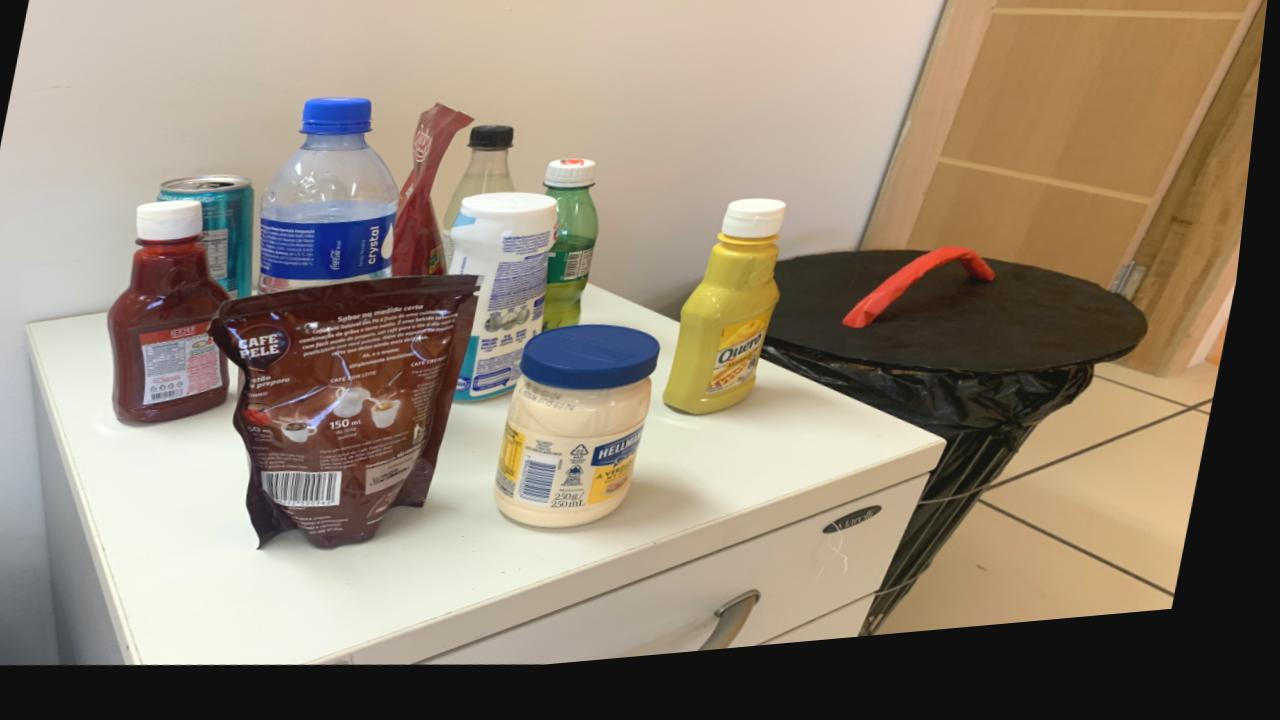Cleaner-Cleanup_Items: (456, 202, 564, 411)
Coffee-Pantry_Items: (216, 284, 486, 556)
Guarana-Drinks: (548, 169, 605, 343)
Ketchup-Pantry_Items: (114, 204, 238, 426)
Mayonnaise-Pantry_Items: (506, 337, 670, 539)
Mustard-Pantry_Items: (673, 214, 793, 428)
Soda-Drinks: (447, 134, 520, 279), (548, 169, 605, 343)
Tea-Drinks: (162, 180, 260, 303)
Tomato_Sauce-Pantry_Items: (397, 112, 477, 284)
Water_Bottle-Drinks: (263, 105, 405, 300), (162, 180, 260, 303)
